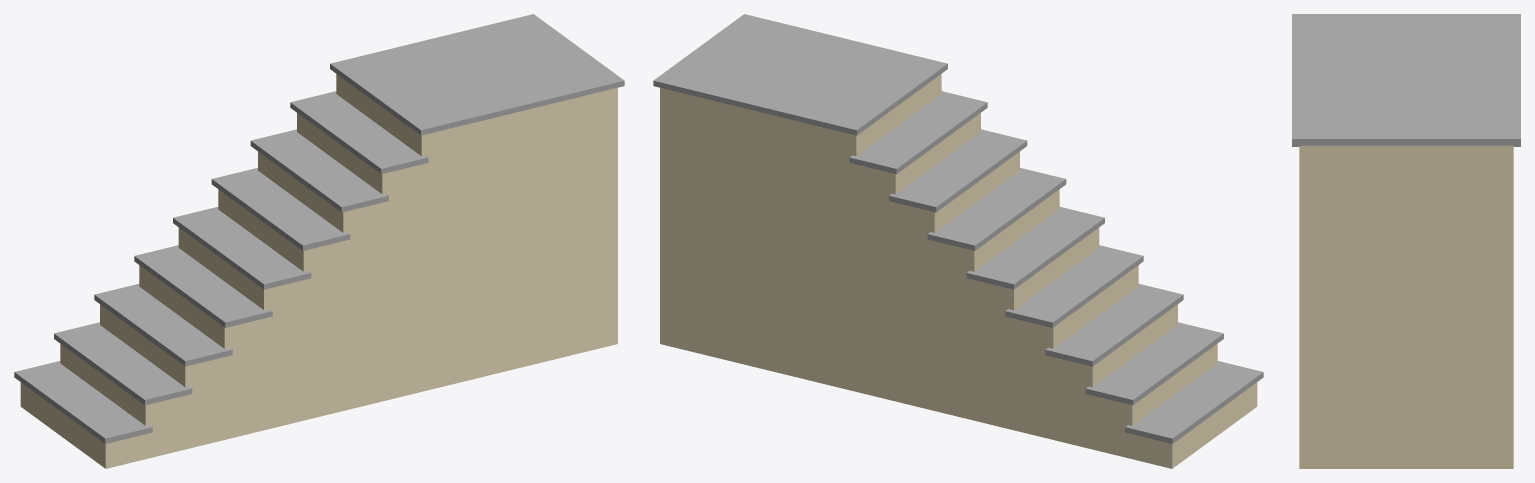
Rendered from outside stairs.fbx.
3 renders of one model, left to right at view 1: azimuth 30°, elevation 25°; view 2: azimuth 150°, elevation 25°; view 3: azimuth 270°, elevation 25°, orthographic. The views are drawn at different scales.
Visible parts, largest first — view 1: muro, scalini; view 2: muro, scalini; view 3: muro, scalini.
Boxes of the visible parts, bbox=[...] form: muro: bbox=[20, 74, 617, 468]; scalini: bbox=[14, 14, 624, 443]; muro: bbox=[660, 74, 1257, 468]; scalini: bbox=[653, 14, 1263, 443]; muro: bbox=[1299, 145, 1513, 468]; scalini: bbox=[1292, 14, 1520, 146].
Size of the model in its own units: 527 by 257 by 160.
